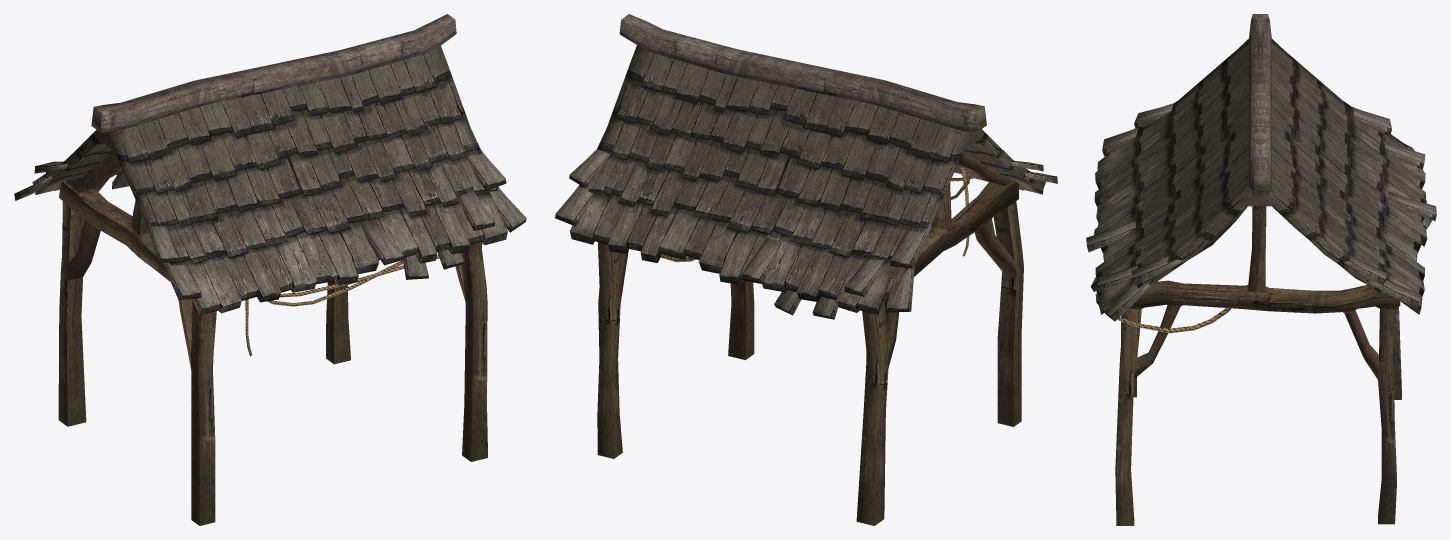
File: Barn02.FBX
3 renders of one model, left to right at view 1: azimuth 30°, elevation 25°; view 2: azimuth 150°, elevation 25°; view 3: azimuth 270°, elevation 25°, orthographic. The views are drawn at different scales.
Visible parts, largest first — view 1: LV_TurtleLake_Lakevillage_HouseBarn02_SM_EYE; view 2: LV_TurtleLake_Lakevillage_HouseBarn02_SM_EYE; view 3: LV_TurtleLake_Lakevillage_HouseBarn02_SM_EYE.
Boxes of the visible parts, left/top/right/bottom form: LV_TurtleLake_Lakevillage_HouseBarn02_SM_EYE: left=14, top=14, right=526, bottom=525; LV_TurtleLake_Lakevillage_HouseBarn02_SM_EYE: left=555, top=14, right=1057, bottom=525; LV_TurtleLake_Lakevillage_HouseBarn02_SM_EYE: left=1086, top=14, right=1436, bottom=525.
Bounding box in the file's own units: 125 × 124 × 108.
